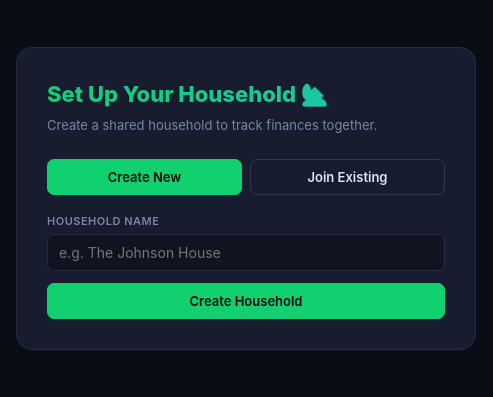
Test: household setup › joins through the database function and shows its error
The width and height of the screenshot is (493, 397).
Click the button "Join Existing" at (348, 177), box 250,159 -> 445,195
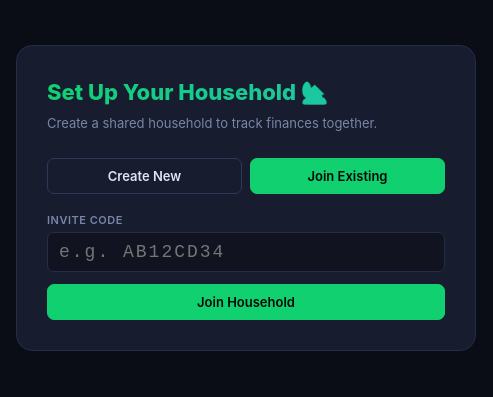
Type "zzzz" into the field with placeholder "e.g. AB12CD34" at (246, 252), box 47,232 -> 445,272
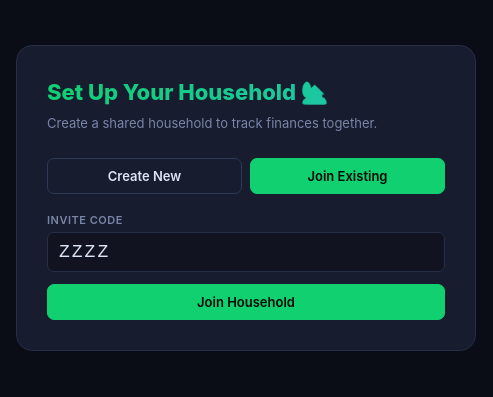
Click the button "Join Household" at (246, 302), box 47,284 -> 445,320
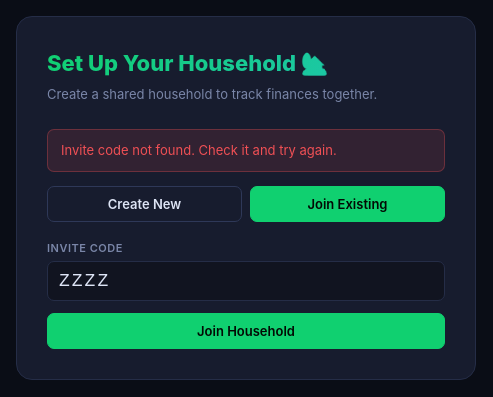
Expected: the text "Invite code not found. Check it and try again." is shown, 47,129 -> 445,172
